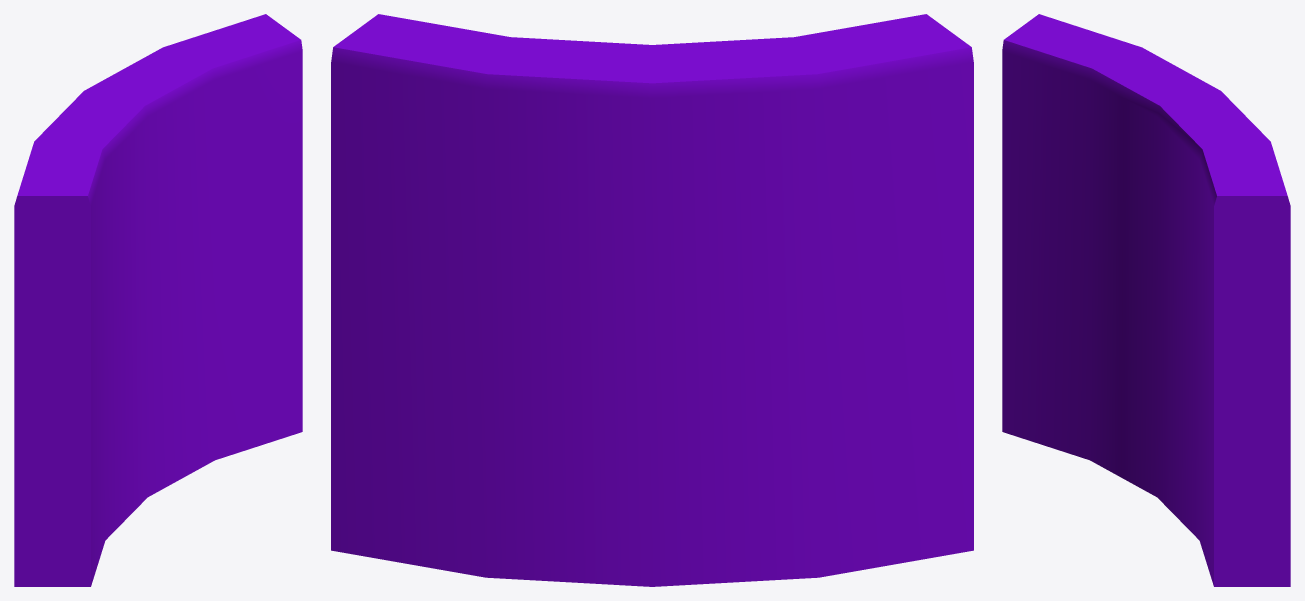
Rendered from RampN_C_30Deg_Right_Inv.fbx.
3 renders of one model, left to right at view 1: azimuth 30°, elevation 25°; view 2: azimuth 150°, elevation 25°; view 3: azimuth 270°, elevation 25°, orthographic. The views are drawn at different scales.
Visible parts, largest first — view 1: RampN_C_30Deg_Right_Inv; view 2: RampN_C_30Deg_Right_Inv; view 3: RampN_C_30Deg_Right_Inv.
Part boxes in pixels (x1=…): RampN_C_30Deg_Right_Inv: x1=14, y1=14, x2=302, y2=586; RampN_C_30Deg_Right_Inv: x1=331, y1=14, x2=973, y2=586; RampN_C_30Deg_Right_Inv: x1=1002, y1=14, x2=1290, y2=586.
Size of the model in its own units: 2.92 by 2.91 by 1.95.
